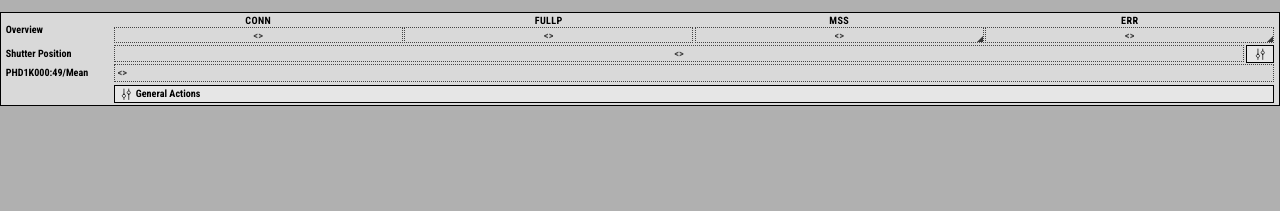
GeneralSection › closes the cog panel automatically after a successful action
The image size is (1280, 211).
Click the button "General Actions".
click(168, 94)  # box [114,85,1274,103]
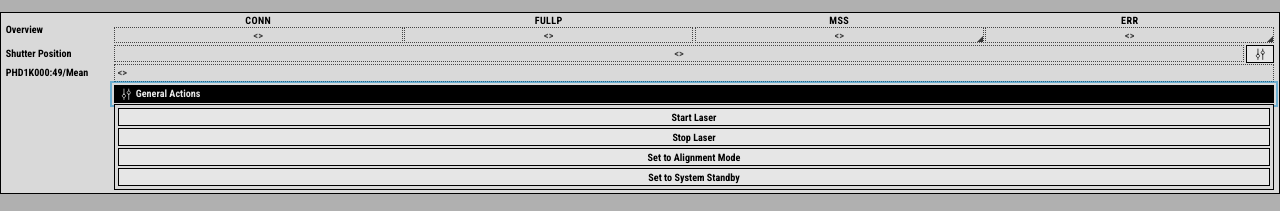
Click the button "Start Laser".
click(694, 117)  # box [118,108,1270,126]
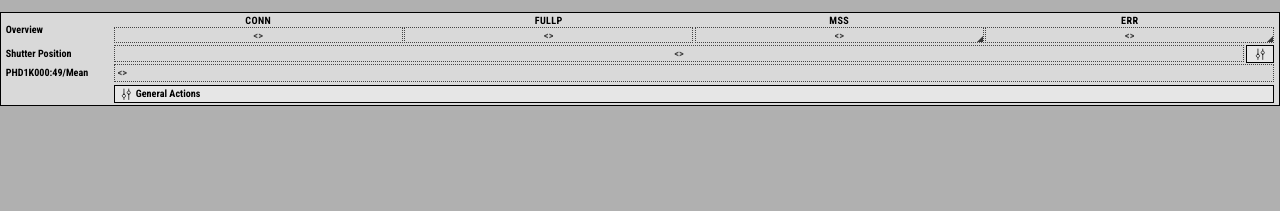
Check: the button "Start Laser" is gone
